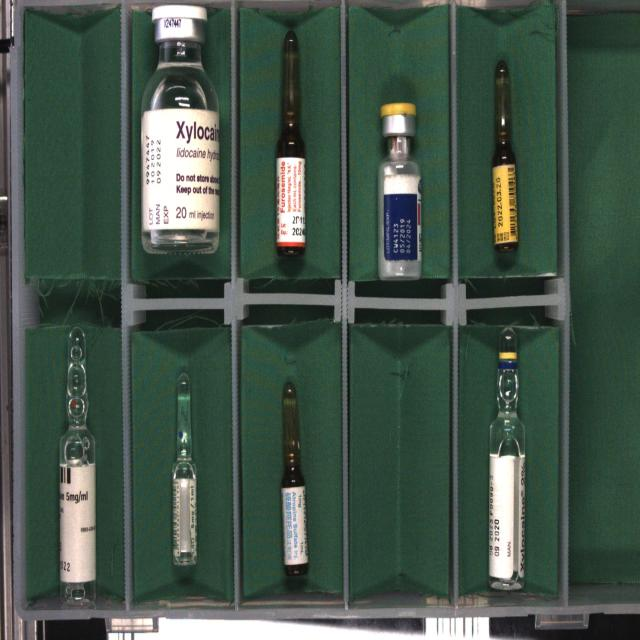Vials: (141, 5, 220, 253), (378, 103, 421, 281)
